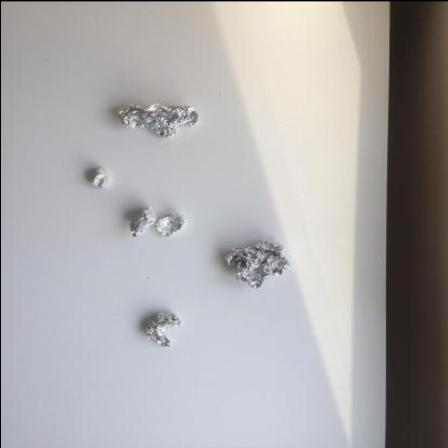Aluminium foil: (224, 239, 290, 289), (117, 102, 199, 137), (146, 312, 183, 346), (129, 206, 158, 238), (155, 213, 187, 238), (91, 168, 111, 188)
